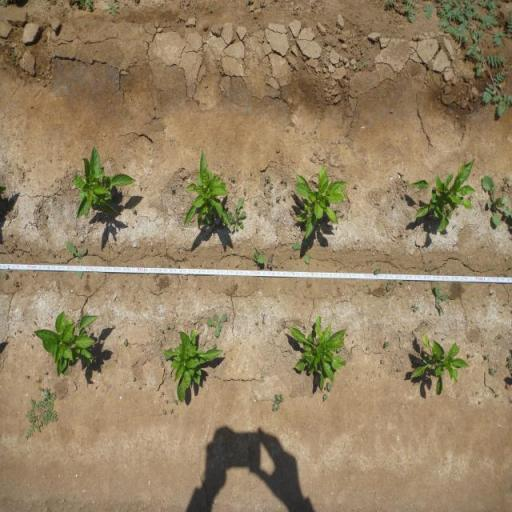plant: (407, 158, 478, 238), (69, 144, 136, 226), (162, 328, 223, 404), (285, 314, 348, 387), (34, 308, 102, 374), (291, 165, 350, 239), (409, 331, 468, 397), (181, 149, 229, 229)
weed: (377, 0, 512, 124), (23, 392, 57, 442), (481, 174, 512, 227), (65, 241, 88, 279), (205, 312, 229, 338), (230, 198, 248, 232), (291, 239, 314, 265), (434, 284, 448, 314), (102, 0, 122, 18), (270, 394, 284, 412), (74, 0, 99, 10), (253, 247, 266, 266), (354, 60, 370, 72), (267, 250, 275, 268), (502, 176, 510, 190), (411, 303, 421, 313), (325, 382, 333, 392), (40, 387, 50, 395), (490, 367, 498, 377), (10, 52, 16, 65), (279, 176, 288, 184), (13, 279, 20, 289), (507, 355, 512, 369), (374, 267, 382, 275), (268, 182, 274, 192), (130, 206, 137, 214), (276, 195, 282, 203), (386, 284, 392, 292), (323, 393, 328, 402), (124, 337, 128, 348), (384, 340, 390, 347), (170, 185, 176, 192), (3, 272, 8, 280), (484, 354, 490, 360), (212, 342, 217, 349), (209, 6, 214, 13), (337, 348, 342, 354), (340, 213, 346, 218), (86, 273, 91, 279), (174, 399, 178, 406), (231, 176, 235, 182), (132, 377, 136, 383), (400, 280, 406, 284), (266, 176, 271, 180), (160, 329, 164, 334), (8, 268, 12, 273), (380, 359, 384, 364), (162, 410, 166, 414), (255, 200, 258, 205), (244, 188, 246, 195), (284, 195, 286, 201), (170, 409, 174, 412), (168, 324, 170, 330), (160, 340, 162, 346), (162, 392, 164, 394)
